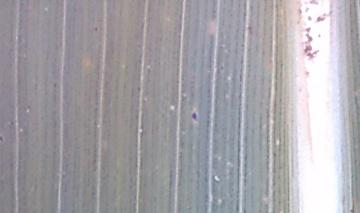tarspot: (299, 26, 320, 65), (316, 12, 338, 23), (189, 108, 200, 122), (302, 69, 313, 77), (305, 14, 314, 23), (92, 24, 100, 34), (307, 1, 320, 6), (1, 131, 5, 145)
